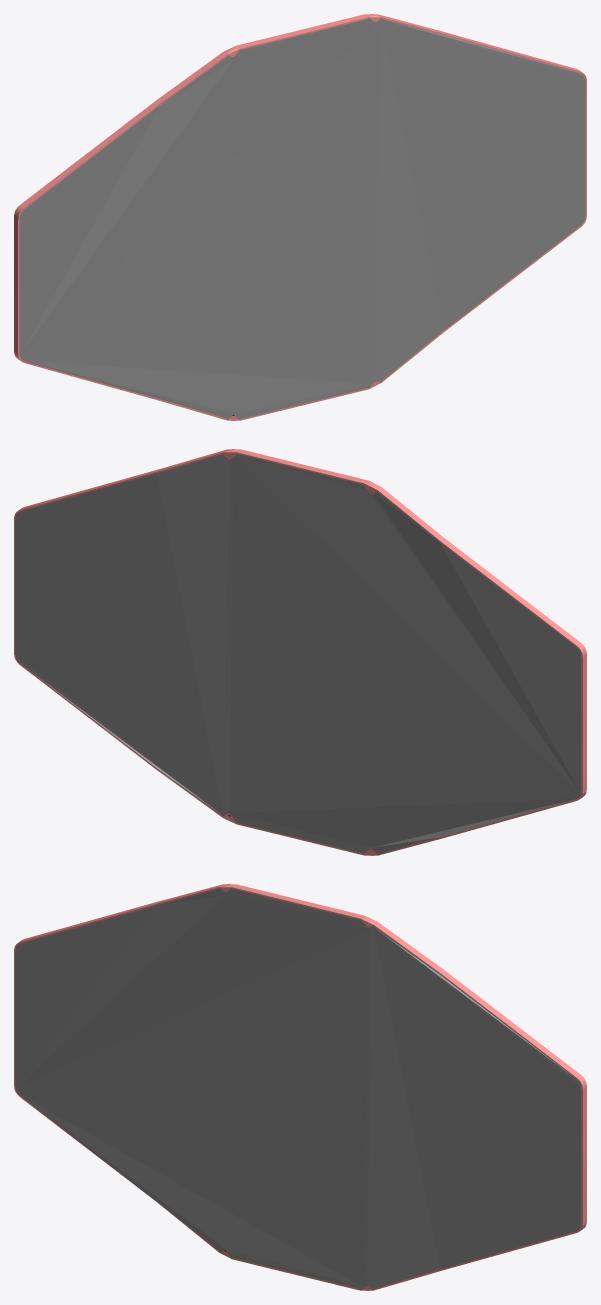
The model's file is TVScreen.fbx.
3 views of the same model, one above another, from view 1: azimuth 30°, elevation 25°; view 2: azimuth 150°, elevation 25°; view 3: azimuth 330°, elevation 25° (orthographic).
Parts seen in each view (by area): view 1: Box001; view 2: Box001; view 3: Box001.
Part boxes in pixels (bbox=[...]): Box001: bbox=[14, 14, 586, 420]; Box001: bbox=[14, 449, 586, 855]; Box001: bbox=[14, 884, 586, 1290].
Size of the model in its own units: 80 by 1.5 by 50.
